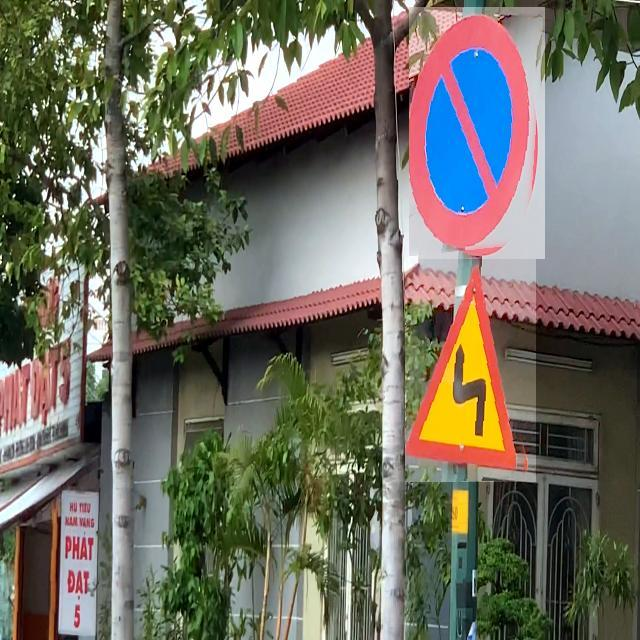P-131a: (409, 8, 545, 260)
W-202a: (405, 257, 536, 482)
